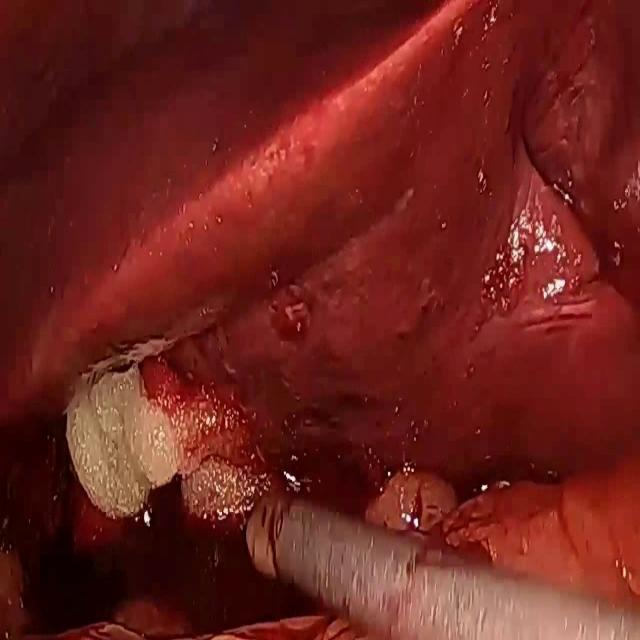surgical-area: (0, 0, 640, 639)
surgical-tool: (244, 492, 640, 639)
